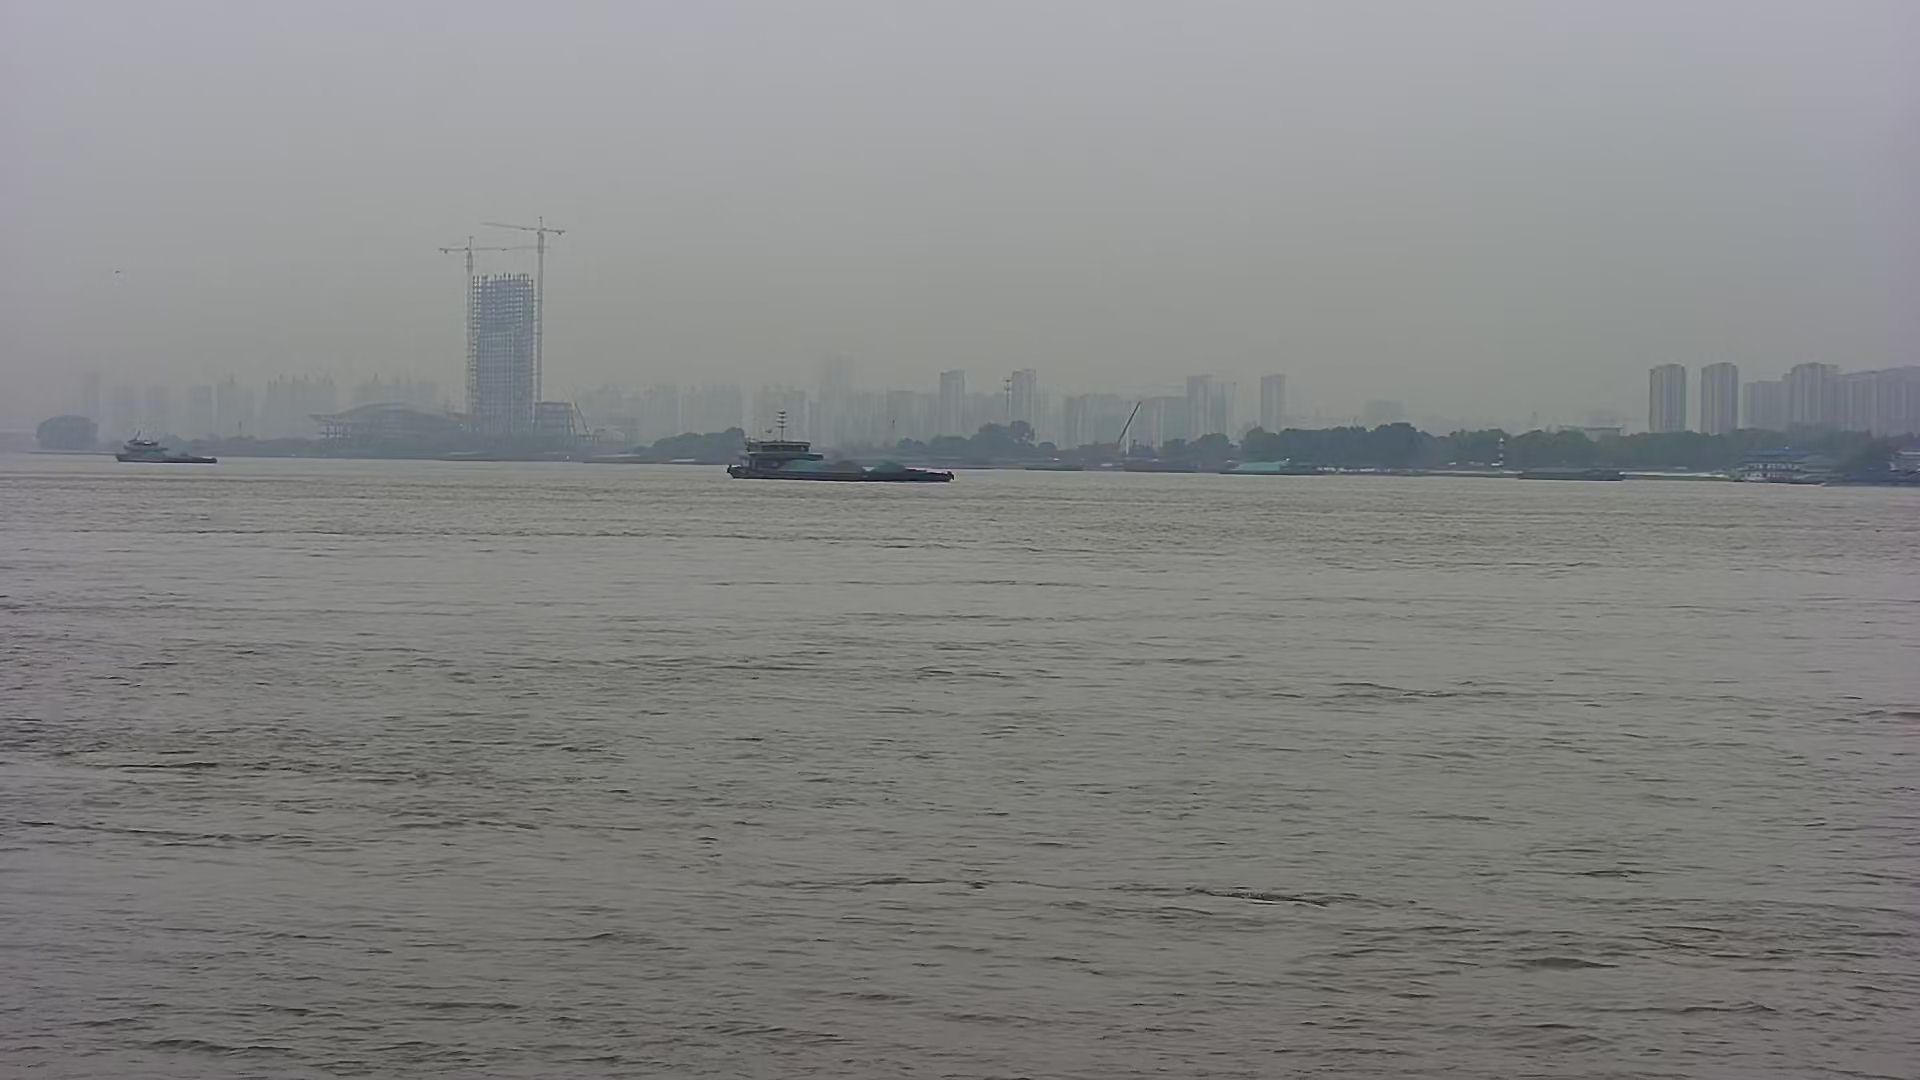ship: (724, 422, 959, 487), (108, 429, 229, 473)
